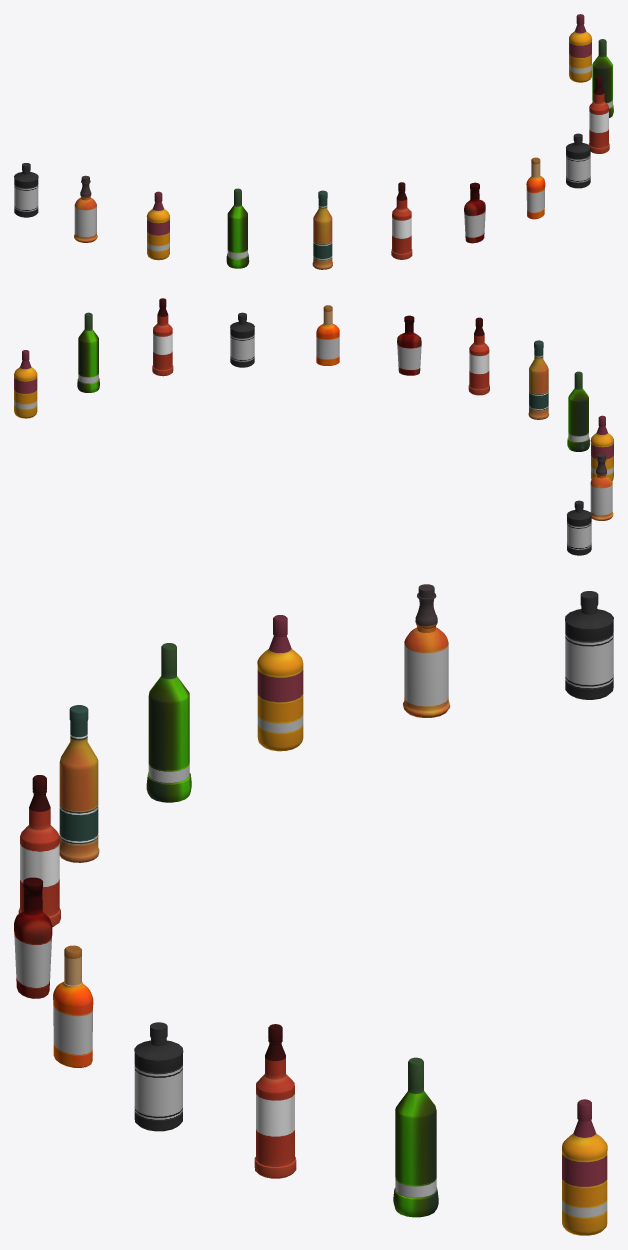
File: Bottles01_10.FBX
3 views of the same model, one above another, from view 1: azimuth 30°, elevation 25°; view 2: azimuth 150°, elevation 25°; view 3: azimuth 270°, elevation 25° (orthographic). The views are drawn at different scales.
Parts seen in each view (by area): view 1: Bottles01_10; view 2: Bottles01_10; view 3: Bottles01_10.
Part boxes in pixels (<box>): Bottles01_10: <box>14,14,613,269</box>; Bottles01_10: <box>14,298,613,555</box>; Bottles01_10: <box>14,584,613,1235</box>.
Bounding box in the file's own units: 248 × 30.73 × 113.
